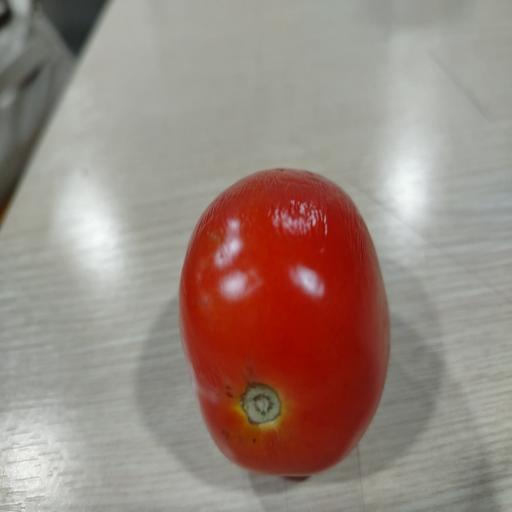spoiled: (179, 169, 390, 476)
